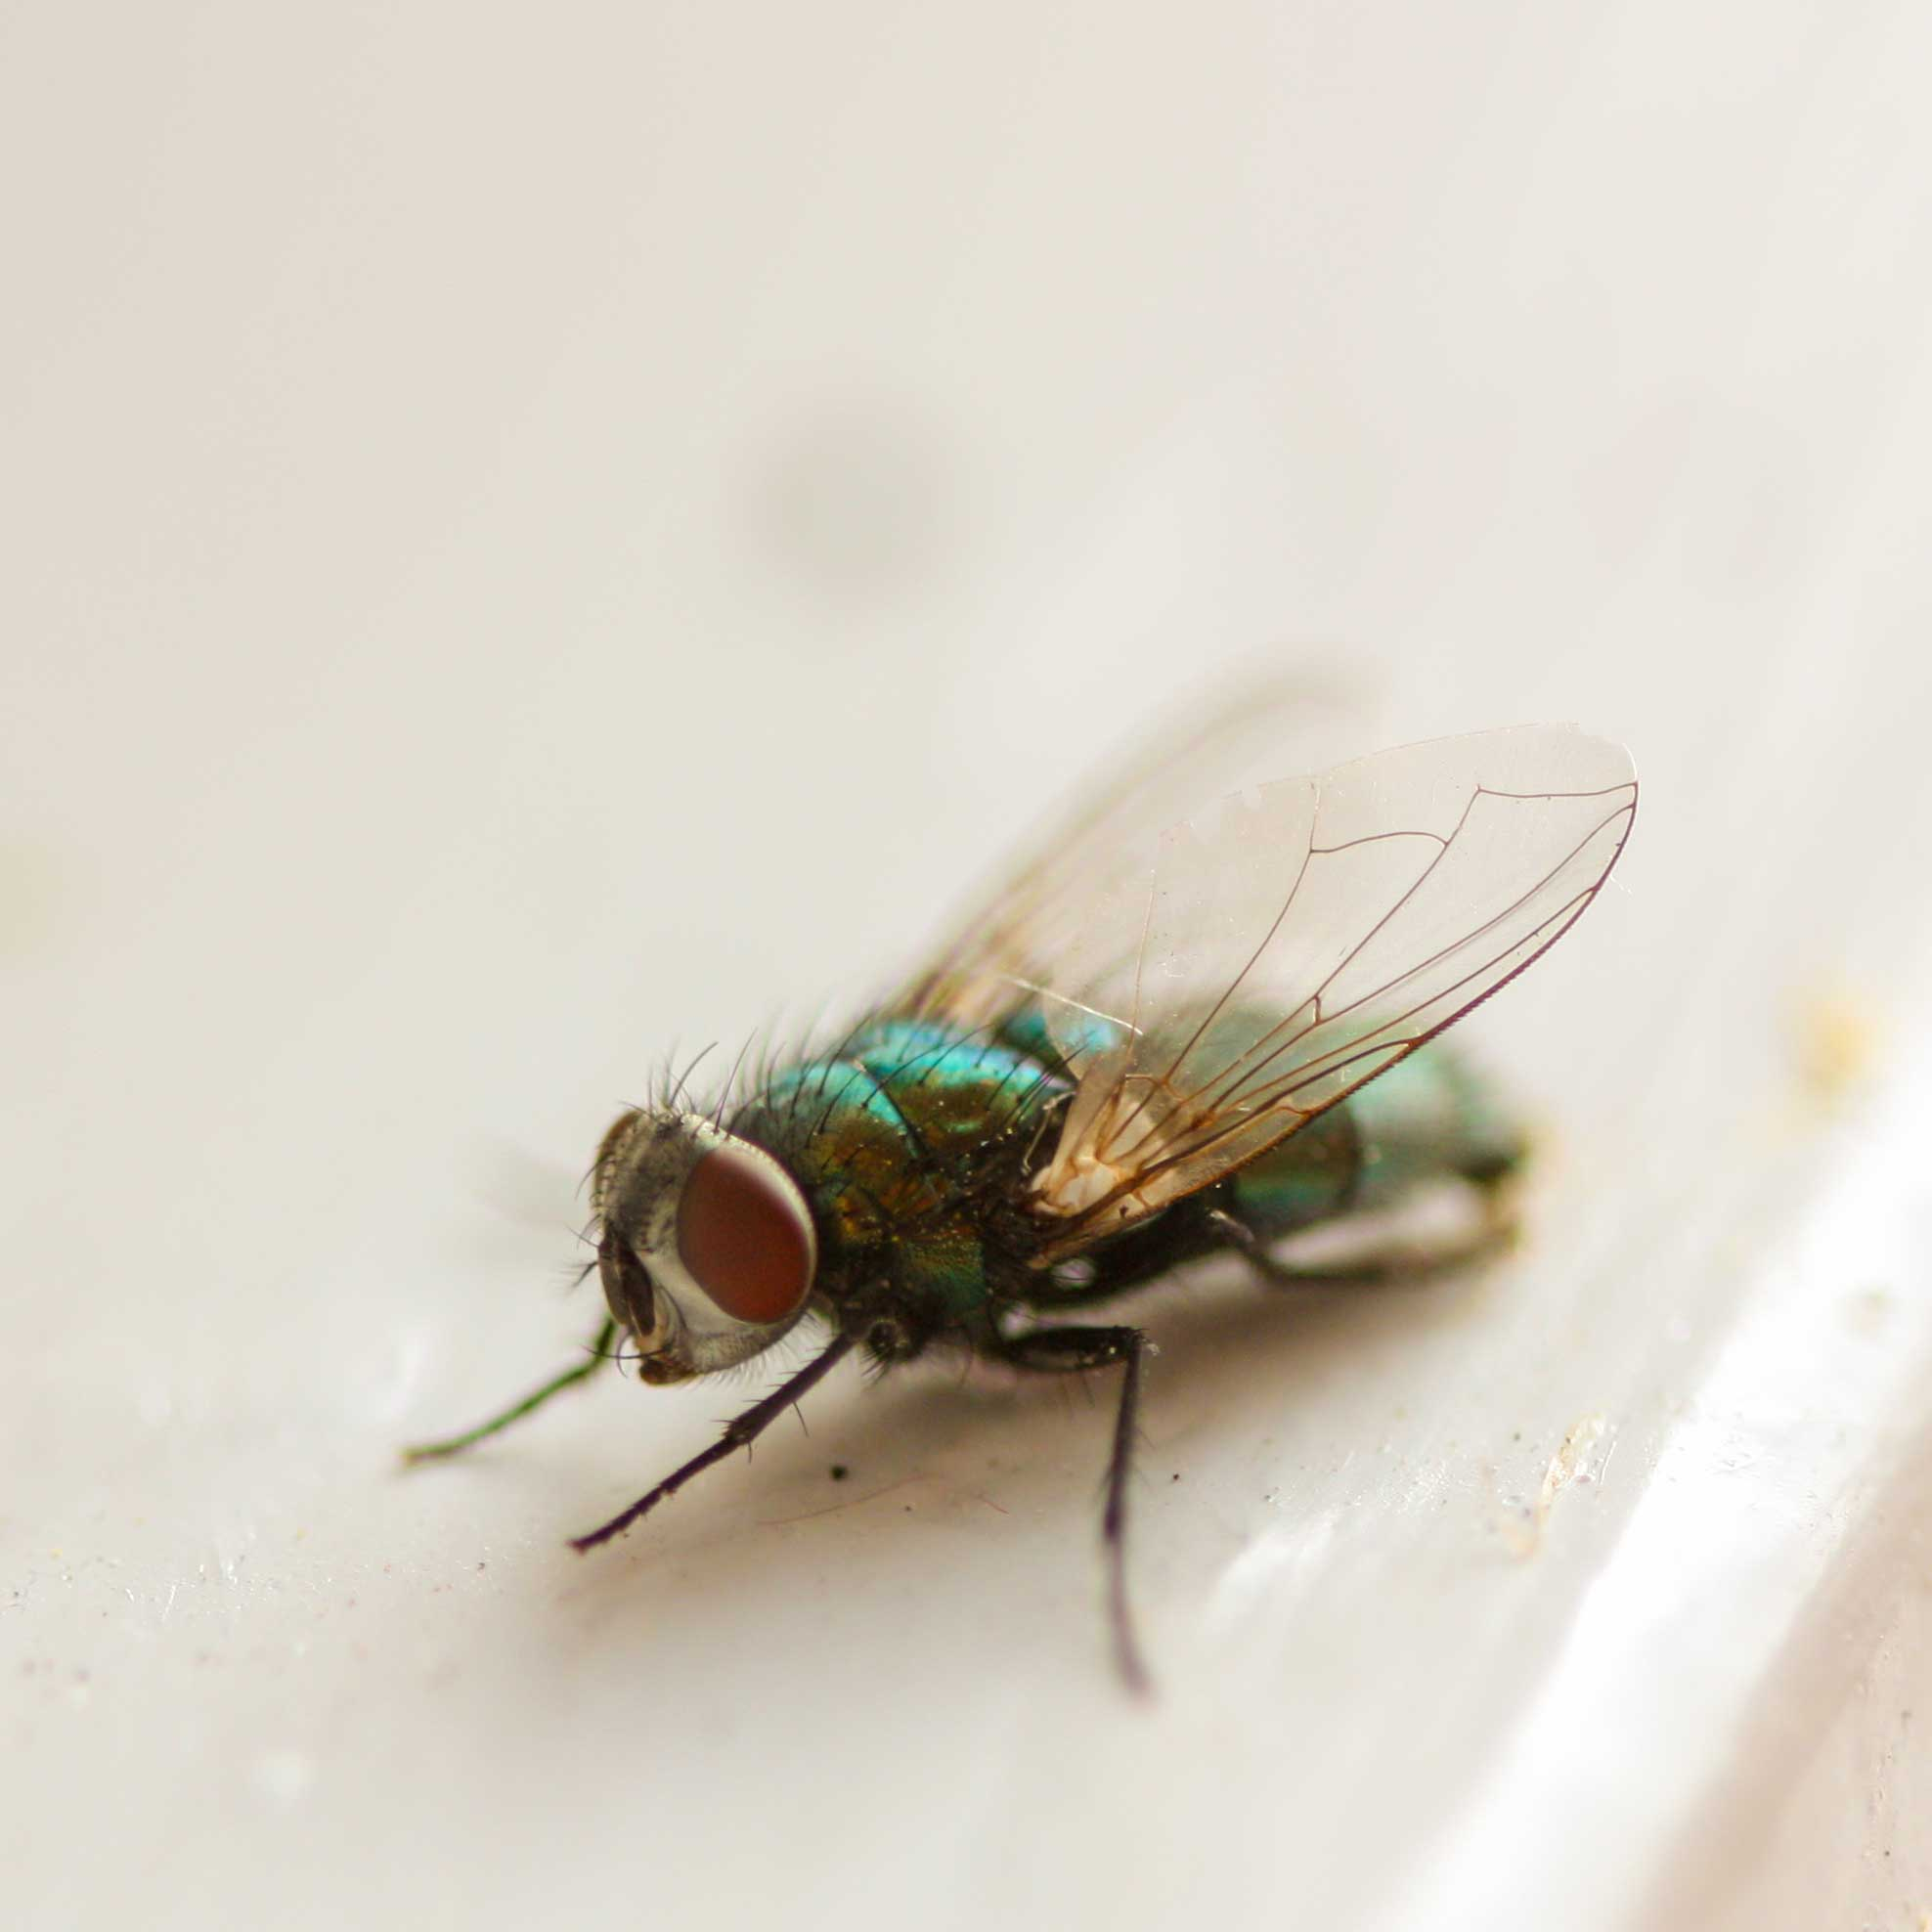house fly: (357, 626, 1582, 1642)
